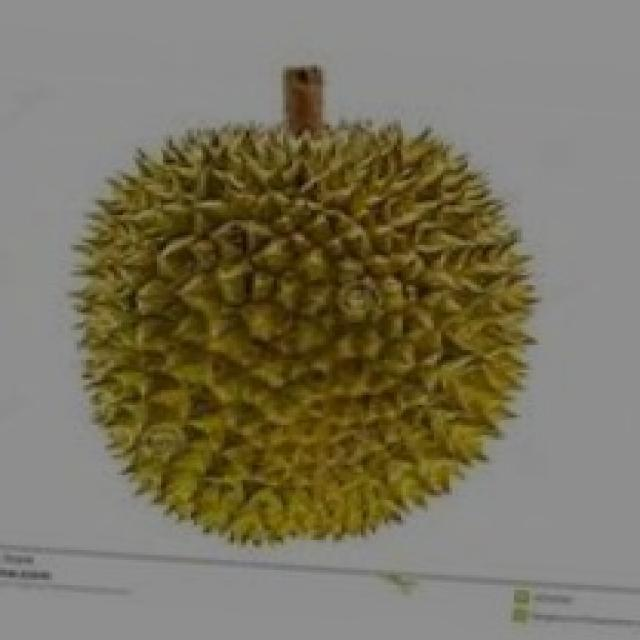fruit: (212, 248, 603, 598), (28, 230, 382, 595)
